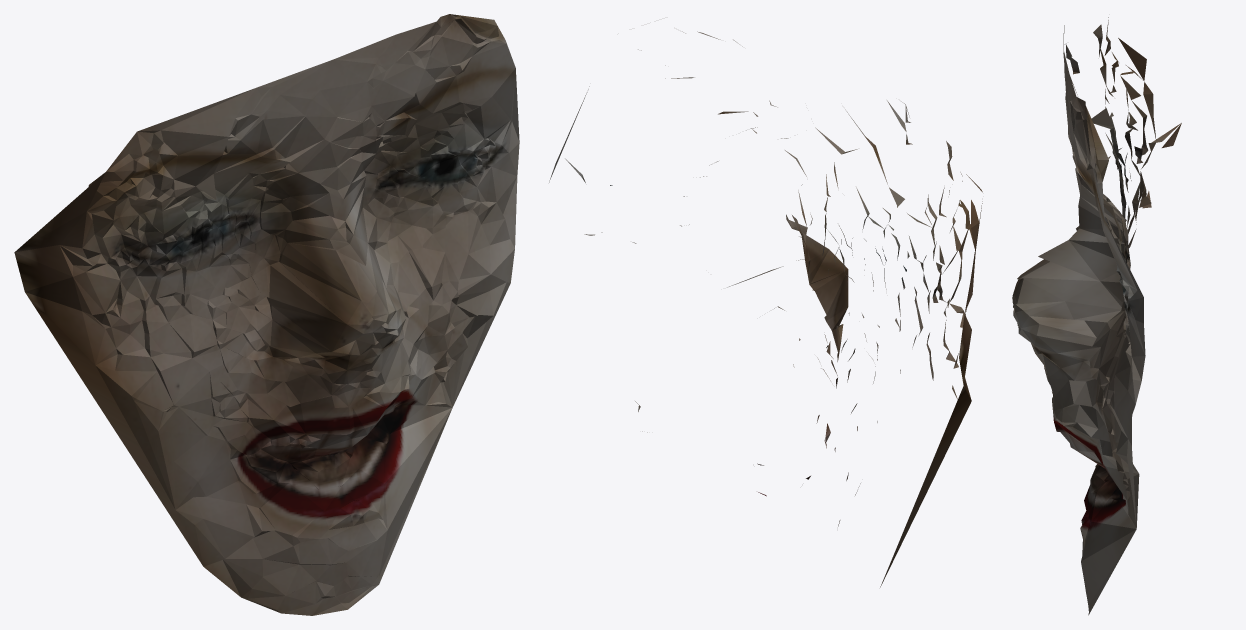
Rendered from smoothed_output.glb.
3 renders of one model, left to right at view 1: azimuth 30°, elevation 25°; view 2: azimuth 150°, elevation 25°; view 3: azimuth 270°, elevation 25°, orthographic. The views are drawn at different scales.
Visible parts, largest first — view 1: world; view 2: world; view 3: world.
Boxes of the visible parts, box(x1,y1,x2,y2) form: world: box(14, 14, 519, 615); world: box(549, 31, 982, 587); world: box(1012, 17, 1181, 615).
Bounding box in the file's own units: 0.1375 × 0.1635 × 0.0581.
Materials: 1 (1 with a texture image).
